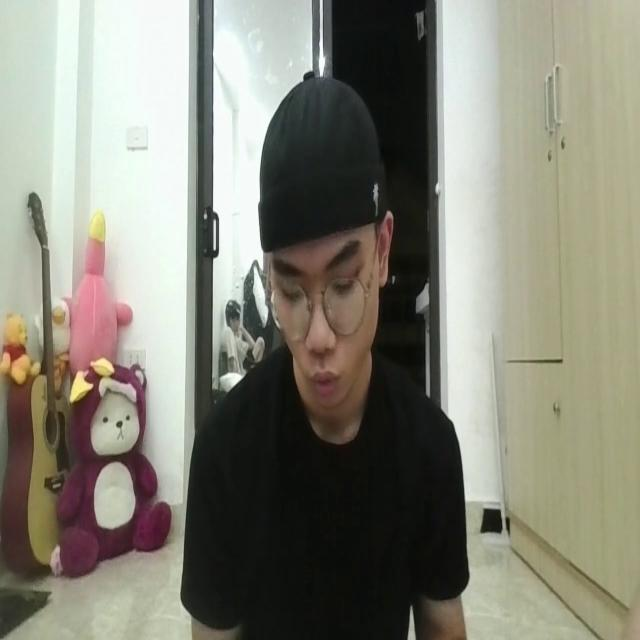student: (181, 64, 469, 640)
